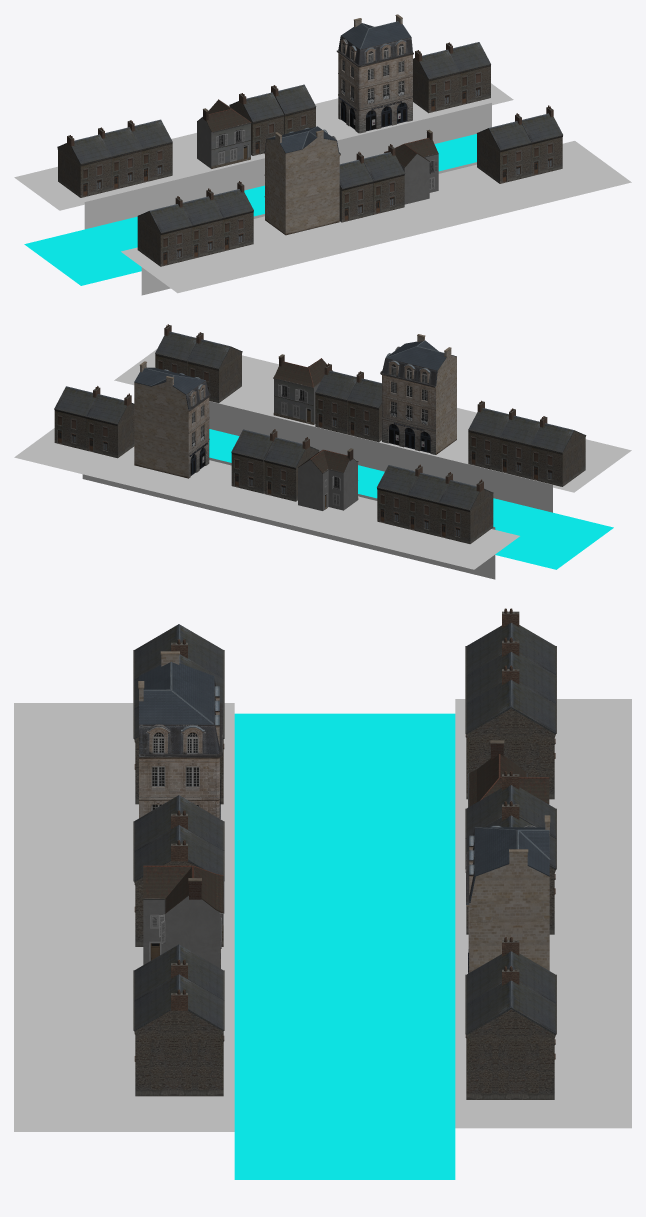
3 renders of one model, top to bottom at view 1: azimuth 30°, elevation 25°; view 2: azimuth 150°, elevation 25°; view 3: azimuth 270°, elevation 25°, orthographic. The views are drawn at different scales.
Visible parts, largest first — view 1: pavement_left, wall, Strechnitz.001, Strechnitz, river_water, Plane, 18.001, Cube.016, Cube.002, Cube.013, Cube.008, 18 (+11 smaller); view 2: Plane, wall.001, Strechnitz, Strechnitz.001, river_water, pavement_left, 18.001, Cube.016, Cube.013, Cube.008, 18, wall (+11 smaller); view 3: river_water, pavement_left, Plane, Strechnitz, Strechnitz.001, Cube.007, Cube.001, Cube.011, 18, Cube.004, Cube.002, Cube.005 (+7 smaller).
Part boxes in pixels (left/top/right/bottom): pavement_left: left=121, top=141, right=631, bottom=293; wall: left=84, top=103, right=491, bottom=229; Strechnitz.001: left=336, top=14, right=413, bottom=133; Strechnitz: left=264, top=126, right=340, bottom=235; river_water: left=24, top=134, right=476, bottom=285; Plane: left=14, top=83, right=513, bottom=210; 18.001: left=197, top=99, right=251, bottom=168; Cube.016: left=137, top=196, right=192, bottom=266; Cube.002: left=477, top=113, right=531, bottom=183; Cube.013: left=57, top=134, right=111, bottom=197; Cube.008: left=413, top=49, right=459, bottom=113; 18: left=384, top=129, right=438, bottom=204; Plane: left=14, top=428, right=519, bottom=569; wall.001: left=209, top=401, right=552, bottom=512; Strechnitz: left=380, top=334, right=456, bottom=454; Strechnitz.001: left=134, top=361, right=210, bottom=478; river_water: left=209, top=429, right=613, bottom=569; pavement_left: left=114, top=349, right=631, bottom=492; 18.001: left=298, top=448, right=358, bottom=510; Cube.016: left=530, top=416, right=586, bottom=486; Cube.013: left=438, top=479, right=493, bottom=543; Cube.008: left=85, top=393, right=134, bottom=458; 18: left=273, top=354, right=332, bottom=424; wall: left=82, top=457, right=495, bottom=579; river_water: left=234, top=713, right=455, bottom=1179; pavement_left: left=14, top=703, right=234, bottom=1131; Plane: left=455, top=699, right=631, bottom=1128; Strechnitz: left=138, top=651, right=222, bottom=818; Strechnitz.001: left=466, top=815, right=550, bottom=973; Cube.007: left=465, top=966, right=556, bottom=1099; Cube.001: left=133, top=974, right=224, bottom=1096; Cube.011: left=465, top=665, right=556, bottom=799; 18: left=143, top=865, right=224, bottom=968; Cube.004: left=133, top=825, right=224, bottom=946; Cube.002: left=133, top=944, right=224, bottom=1000; Cube.005: left=133, top=795, right=224, bottom=850.
Size of the model in its own units: 10000 by 2799 by 5600.
